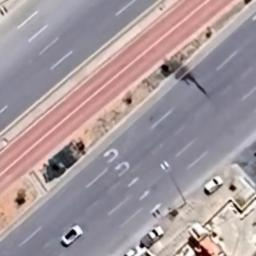SUV: (200, 174, 226, 196)
sedan: (59, 223, 85, 249)
unknown: (138, 223, 168, 250)
